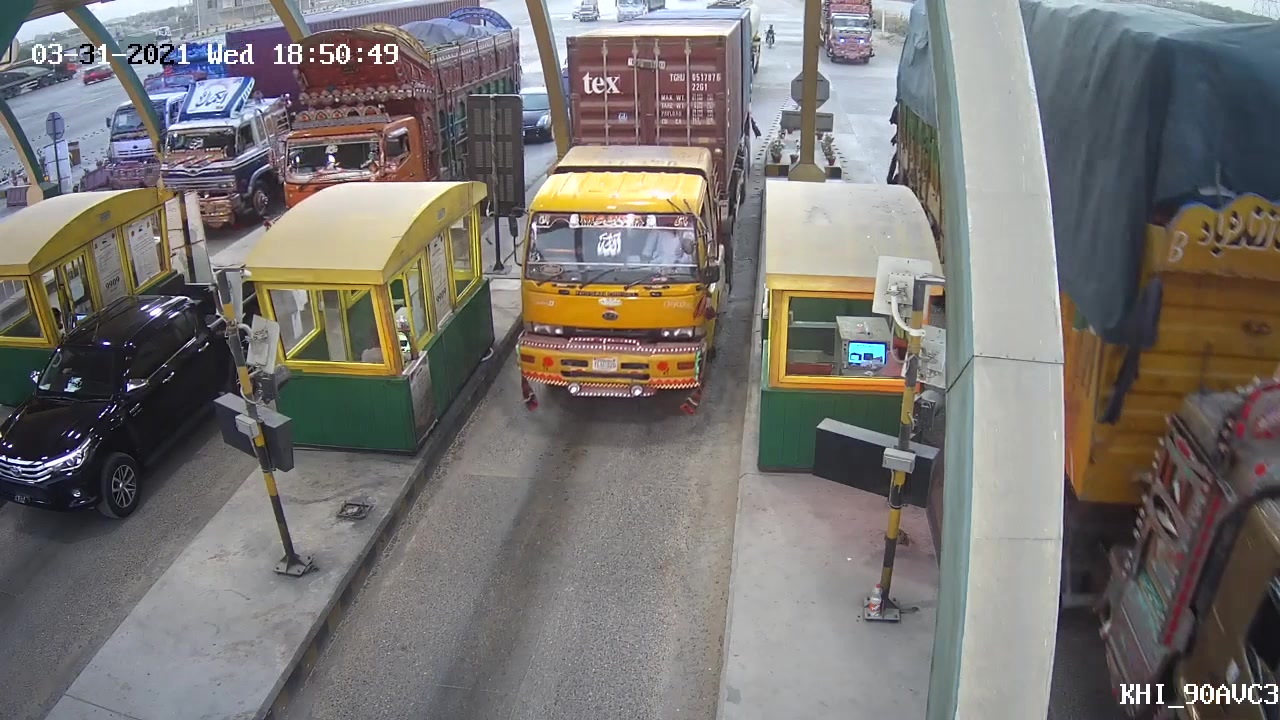F6: (509, 10, 764, 424)
